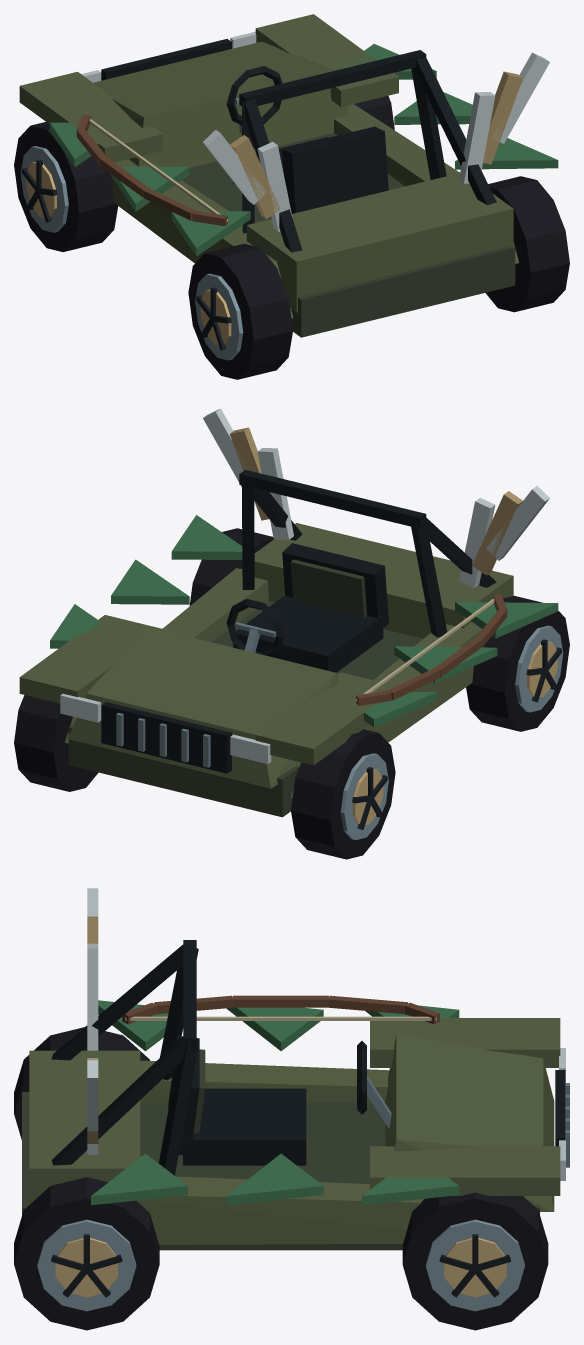
Rendered from kart.glb.
3 views of the same model, one above another, from view 1: azimuth 30°, elevation 25°; view 2: azimuth 150°, elevation 25°; view 3: azimuth 270°, elevation 25° (orthographic). The views are drawn at different scales.
Visible parts, largest first — view 1: identity-jeep-jeep-offroad-frame, wheel-rear-left, wheel-front-left, identity-jeep-motif-feathers, identity-jeep-driver-cockpit, identity-jeep-motif-leaves, wheel-rear-right, identity-jeep-motif-bow, wheel-front-right; view 2: identity-jeep-jeep-offroad-frame, identity-jeep-driver-cockpit, identity-jeep-motif-leaves, wheel-front-left, wheel-rear-left, identity-jeep-motif-feathers, wheel-front-right, identity-jeep-motif-bow, wheel-rear-right; view 3: identity-jeep-jeep-offroad-frame, wheel-rear-right, wheel-front-right, identity-jeep-motif-leaves, identity-jeep-driver-cockpit, identity-jeep-motif-bow, identity-jeep-motif-feathers, wheel-rear-left.
Part boxes in pixels (bbox=[...]): identity-jeep-jeep-offroad-frame: bbox=[19, 14, 519, 337]; wheel-rear-left: bbox=[188, 243, 292, 379]; wheel-front-left: bbox=[14, 122, 118, 251]; identity-jeep-motif-feathers: bbox=[203, 52, 549, 231]; identity-jeep-driver-cockpit: bbox=[226, 66, 388, 213]; identity-jeep-motif-leaves: bbox=[50, 44, 558, 256]; wheel-rear-right: bbox=[485, 176, 569, 312]; identity-jeep-motif-bow: bbox=[76, 114, 227, 226]; wheel-front-right: bbox=[354, 96, 394, 130]; identity-jeep-jeep-offroad-frame: bbox=[19, 470, 513, 817]; identity-jeep-driver-cockpit: bbox=[226, 543, 388, 672]; identity-jeep-motif-leaves: bbox=[50, 515, 558, 727]; wheel-front-left: bbox=[291, 729, 395, 859]; wheel-rear-left: bbox=[466, 595, 569, 731]; identity-jeep-motif-feathers: bbox=[203, 408, 549, 587]; wheel-front-right: bbox=[14, 695, 98, 791]; identity-jeep-motif-bow: bbox=[356, 594, 507, 705]; wheel-rear-right: bbox=[189, 528, 273, 605]; identity-jeep-jeep-offroad-frame: bbox=[22, 940, 569, 1250]; wheel-rear-right: bbox=[14, 1177, 159, 1330]; wheel-front-right: bbox=[402, 1192, 548, 1330]; identity-jeep-motif-leaves: bbox=[91, 1000, 459, 1205]; identity-jeep-driver-cockpit: bbox=[168, 1036, 391, 1165]; identity-jeep-motif-bow: bbox=[122, 995, 439, 1024]; identity-jeep-motif-feathers: bbox=[87, 888, 98, 1154]; wheel-rear-left: bbox=[14, 1027, 150, 1139].
Bounding box in the file's own units: 2.3 × 1.47 × 2.75.
